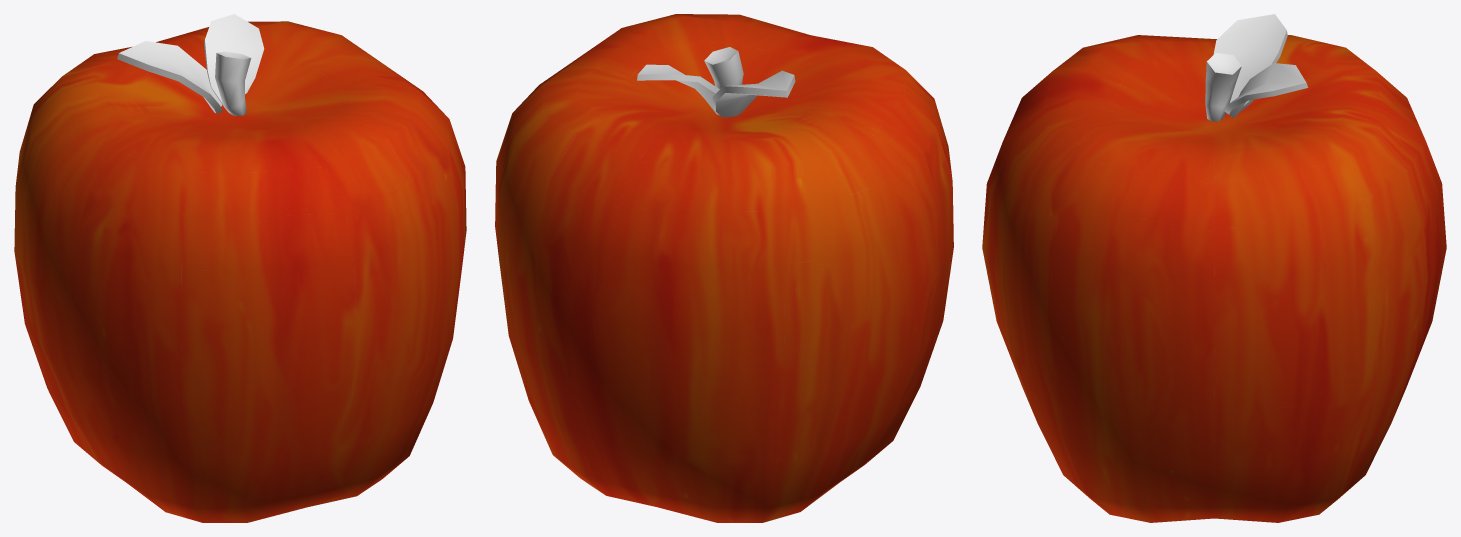
File: apple.fbx
The picture shows the model from 3 angles, left to right: view 1: azimuth 30°, elevation 25°; view 2: azimuth 150°, elevation 25°; view 3: azimuth 270°, elevation 25°; orthographic projection.
Visible parts, largest first — view 1: Apple, Leaf, Leaf.001, Stem; view 2: Apple, Leaf, Leaf.001, Stem; view 3: Apple, Leaf, Leaf.001, Stem.
Part boxes in pixels (x1,y1,x2,y2): Apple: [14, 21, 466, 522]; Leaf: [117, 41, 222, 113]; Leaf.001: [204, 14, 264, 105]; Stem: [215, 51, 251, 115]; Apple: [495, 14, 953, 522]; Leaf: [712, 70, 795, 117]; Leaf.001: [637, 64, 719, 115]; Stem: [704, 47, 743, 88]; Apple: [982, 35, 1446, 522]; Leaf: [1213, 14, 1287, 111]; Leaf.001: [1224, 63, 1308, 117]; Stem: [1205, 53, 1241, 121].
Size of the model in its own units: 199 by 199 by 200.
